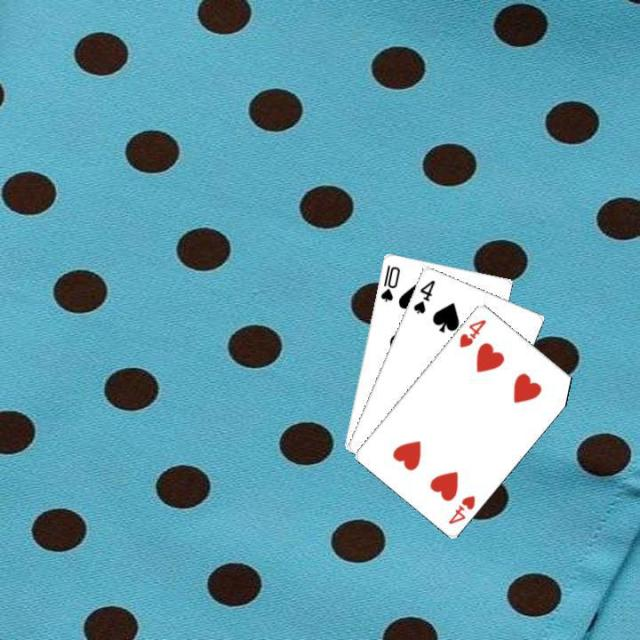10S: (376, 261, 402, 303)
4H: (444, 491, 478, 526), (455, 315, 488, 349)
4S: (409, 276, 436, 316)
